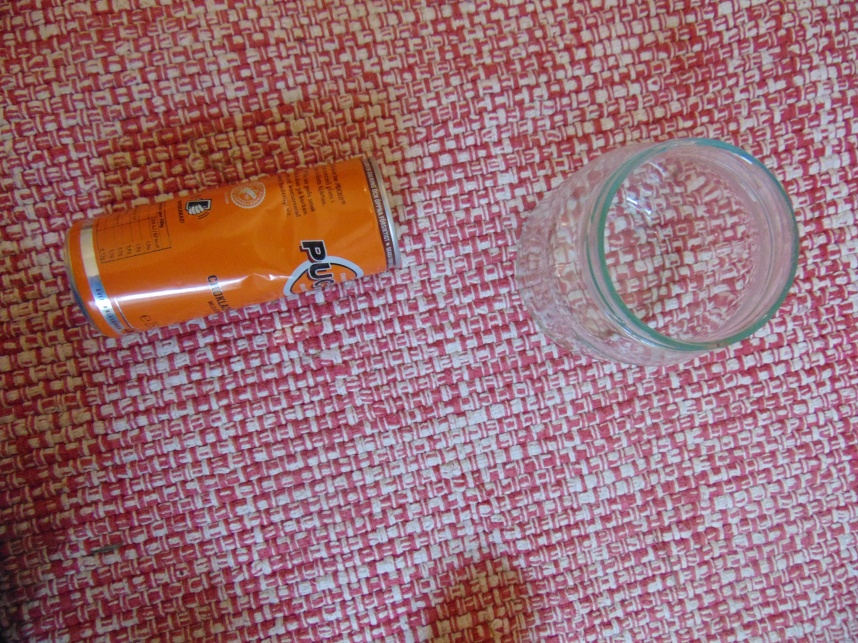glass_bottle: (512, 136, 801, 370)
metal_can: (62, 154, 404, 337)
